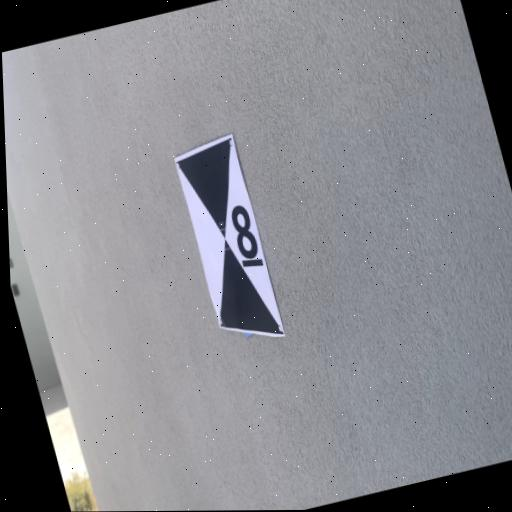target8: (175, 133, 286, 337)
